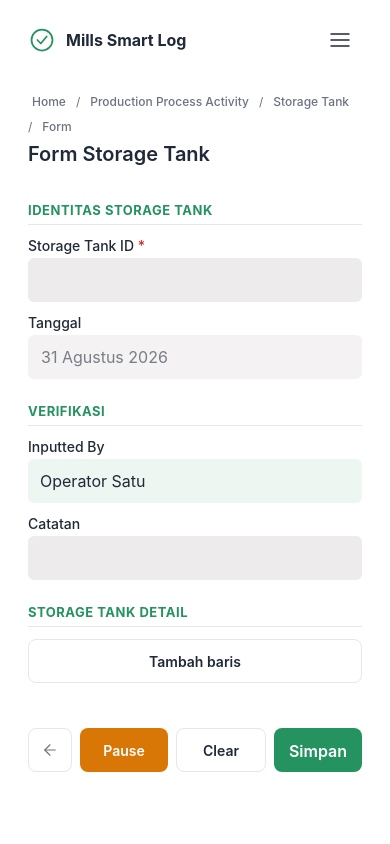
Test case: FormStorageTankView › shows inline error and does not save when Storage Tank ID is empty on Simpan
The image size is (390, 844).
Click the button with test id "save-button".
click(318, 750)  # box 274,728 -> 362,772
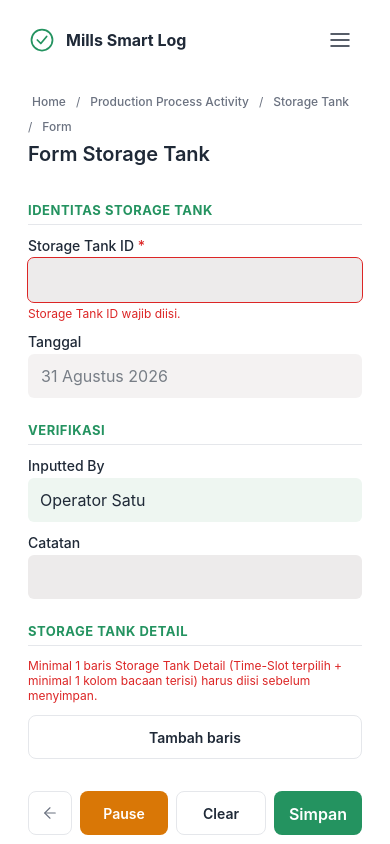
Expected: the text "Storage Tank ID wajib diisi" is shown, 28,306 -> 181,321
